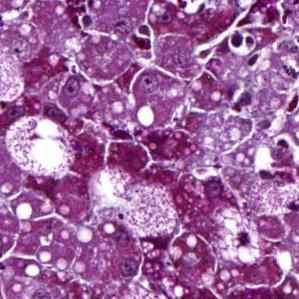ballooning: (4, 112, 77, 181), (205, 203, 266, 269)
